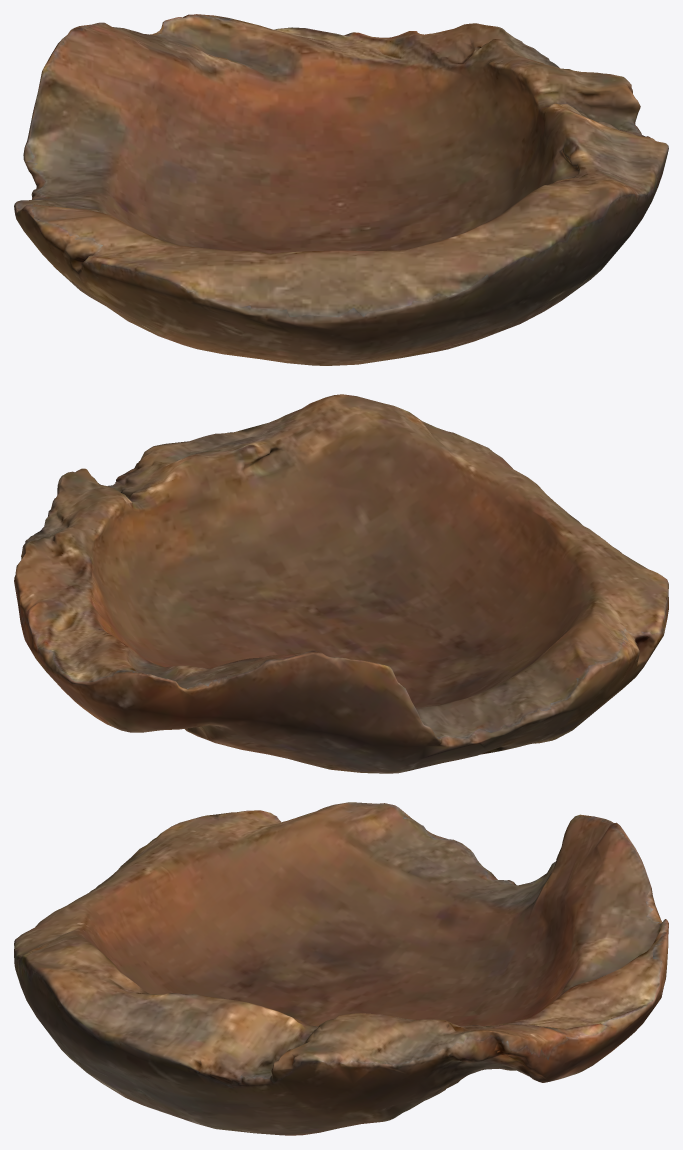
The model's file is wooden_bowl_01.glb.
3 renders of one model, top to bottom at view 1: azimuth 30°, elevation 25°; view 2: azimuth 150°, elevation 25°; view 3: azimuth 270°, elevation 25°, orthographic. The views are drawn at different scales.
Visible parts, largest first — view 1: wooden_bowl_01; view 2: wooden_bowl_01; view 3: wooden_bowl_01.
Boxes of the visible parts, x1,y1,x2,y2 form: wooden_bowl_01: [14, 14, 668, 365]; wooden_bowl_01: [14, 394, 668, 773]; wooden_bowl_01: [14, 802, 668, 1135].
Size of the model in its own units: 0.313 by 0.0937 by 0.3092.
1 material, 1 textured.
